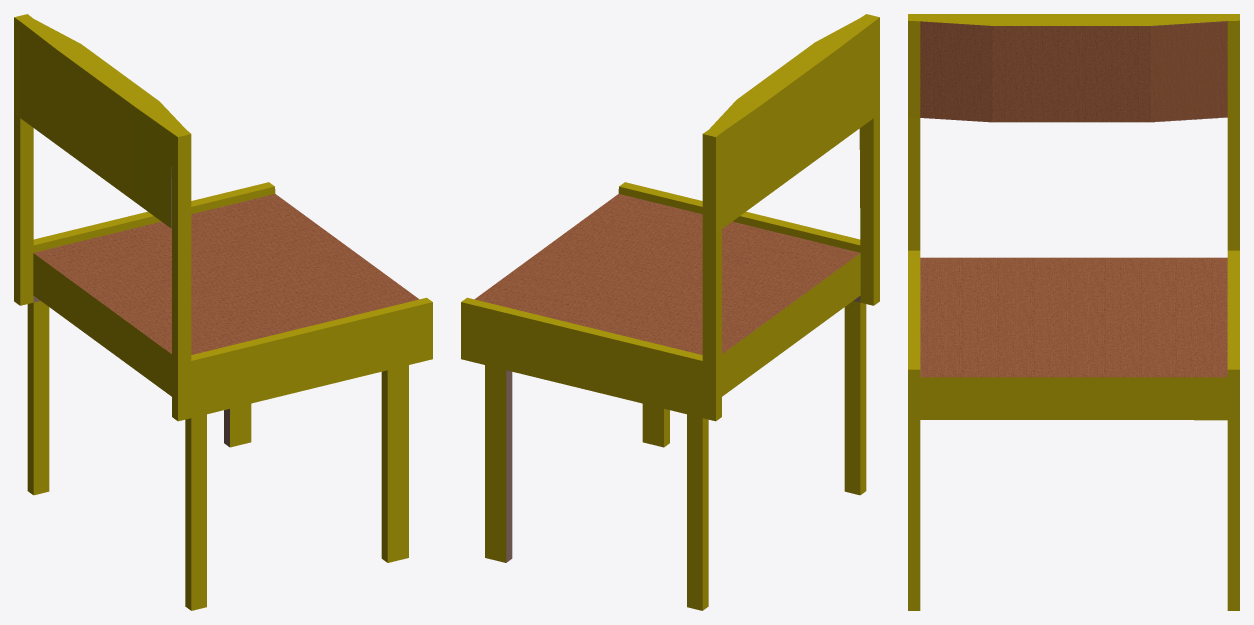
Rendered from Library Chair V2.fbx.
3 views of the same model, side by side, from view 1: azimuth 30°, elevation 25°; view 2: azimuth 150°, elevation 25°; view 3: azimuth 270°, elevation 25° (orthographic).
Parts seen in each view (by area): view 1: pCube1; view 2: pCube1; view 3: pCube1.
Boxes of the visible parts, box(x1,y1,x2,y2) form: pCube1: box(14, 14, 432, 610); pCube1: box(461, 14, 879, 610); pCube1: box(908, 14, 1239, 610).
Bounding box in the file's own units: 131 × 234 × 146.
Materials: 2 (1 with a texture image).
